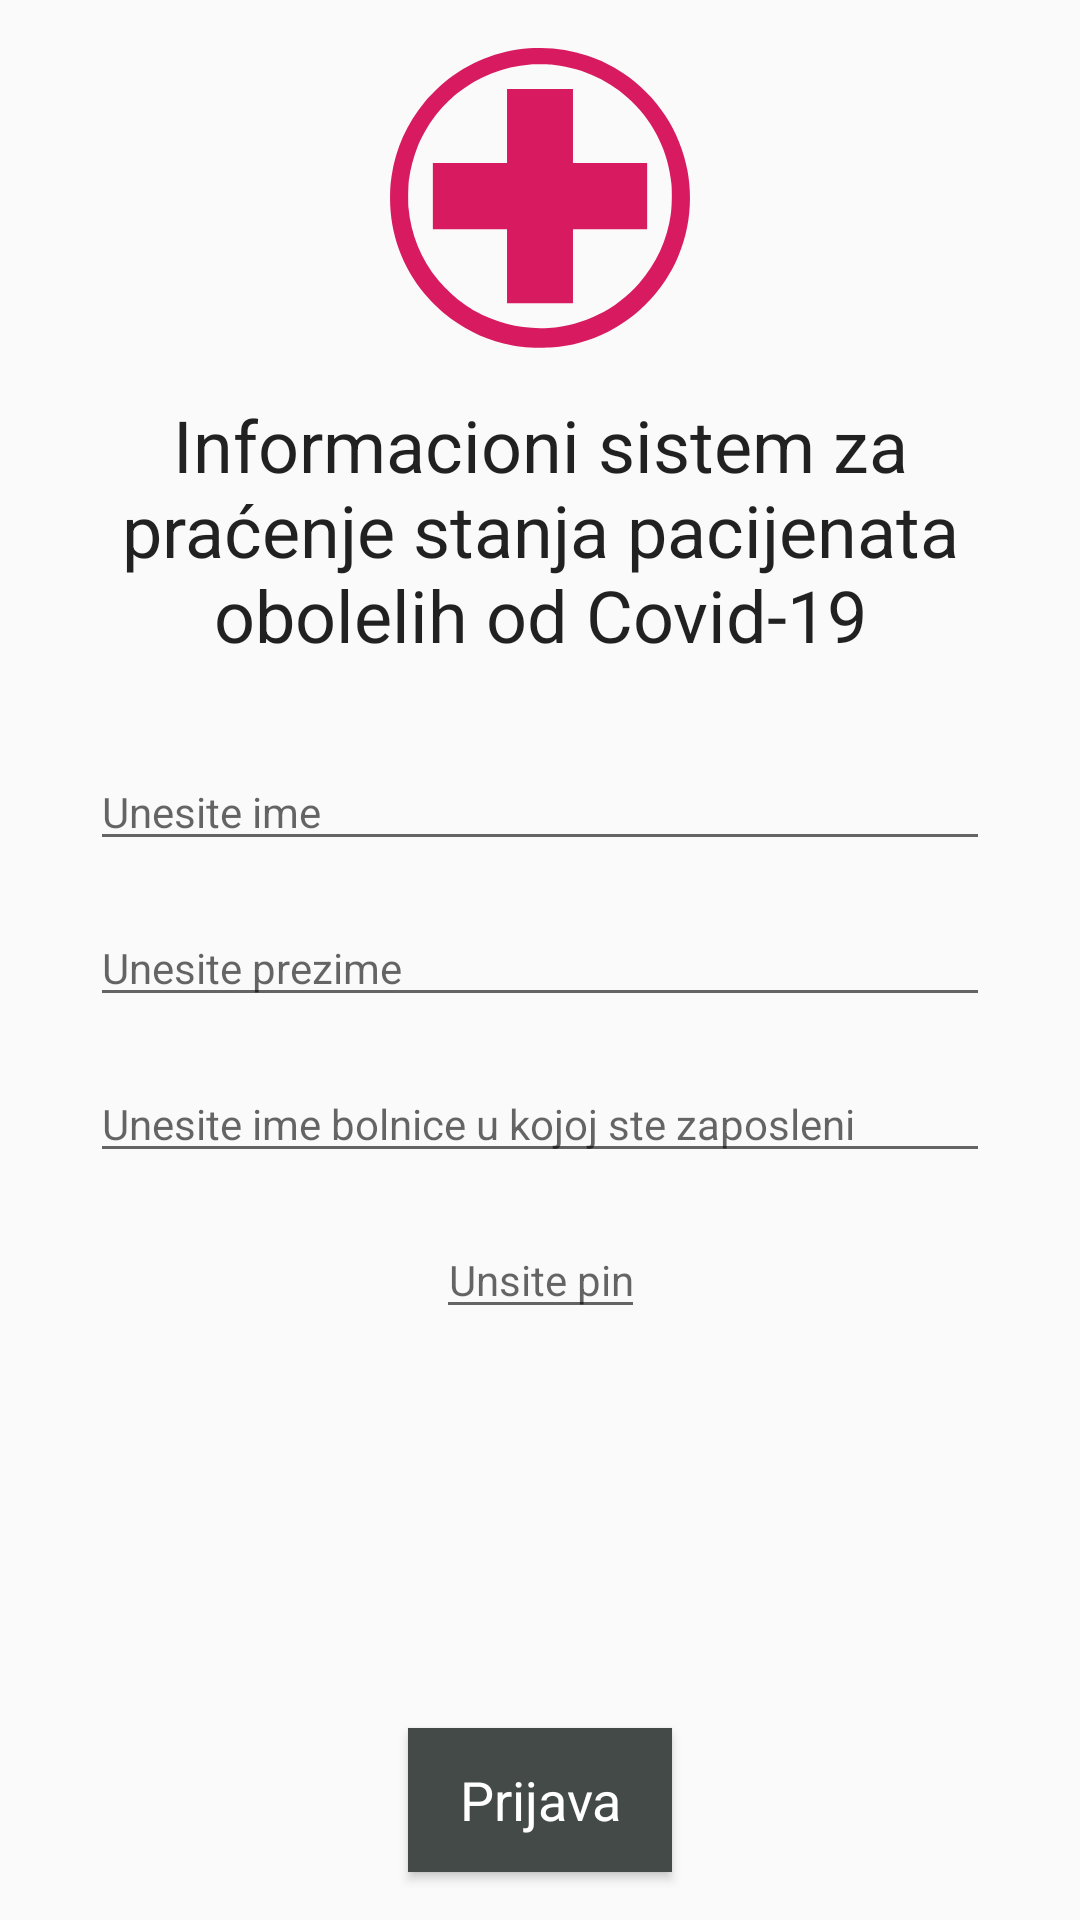

Named icons in this screenshot (1080w x 1920h) and their bounding boxes, (x1, y1, x2, y2):
cross against corona: (390, 48, 690, 348)
